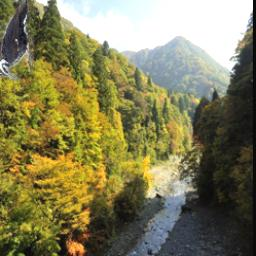Woodpecker: (0, 0, 35, 80)
